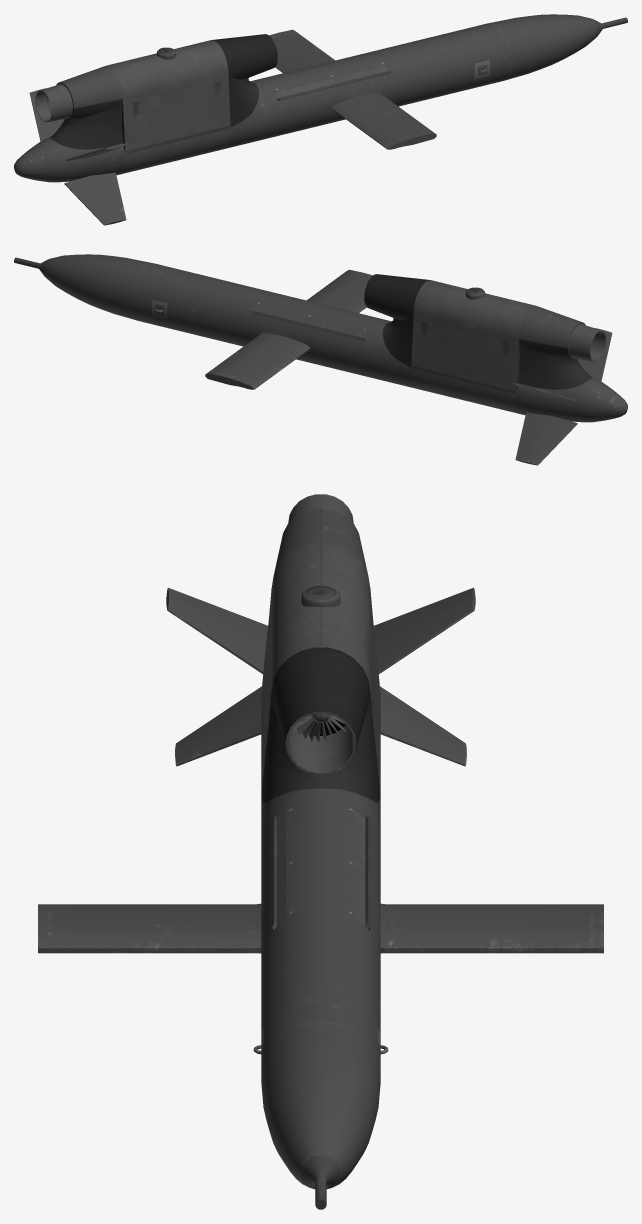
The picture shows the model from 3 angles, top to bottom: view 1: azimuth 30°, elevation 25°; view 2: azimuth 150°, elevation 25°; view 3: azimuth 270°, elevation 25°; orthographic projection. The views are drawn at different scales.
Parts seen in each view (by area): view 1: Rocket bodey type LP v-2-5.001_Rocet bodey (normal) v-2-5_0; view 2: Rocket bodey type LP v-2-5.001_Rocet bodey (normal) v-2-5_0; view 3: Rocket bodey type LP v-2-5.001_Rocet bodey (normal) v-2-5_0.
Boxes of the visible parts, bbox=[...] form: Rocket bodey type LP v-2-5.001_Rocet bodey (normal) v-2-5_0: bbox=[14, 14, 627, 225]; Rocket bodey type LP v-2-5.001_Rocet bodey (normal) v-2-5_0: bbox=[14, 254, 627, 465]; Rocket bodey type LP v-2-5.001_Rocet bodey (normal) v-2-5_0: bbox=[38, 494, 603, 1209].
Size of the model in its own units: 14.46 by 2.82 by 5.79.
Materials: 1 (1 with a texture image).
